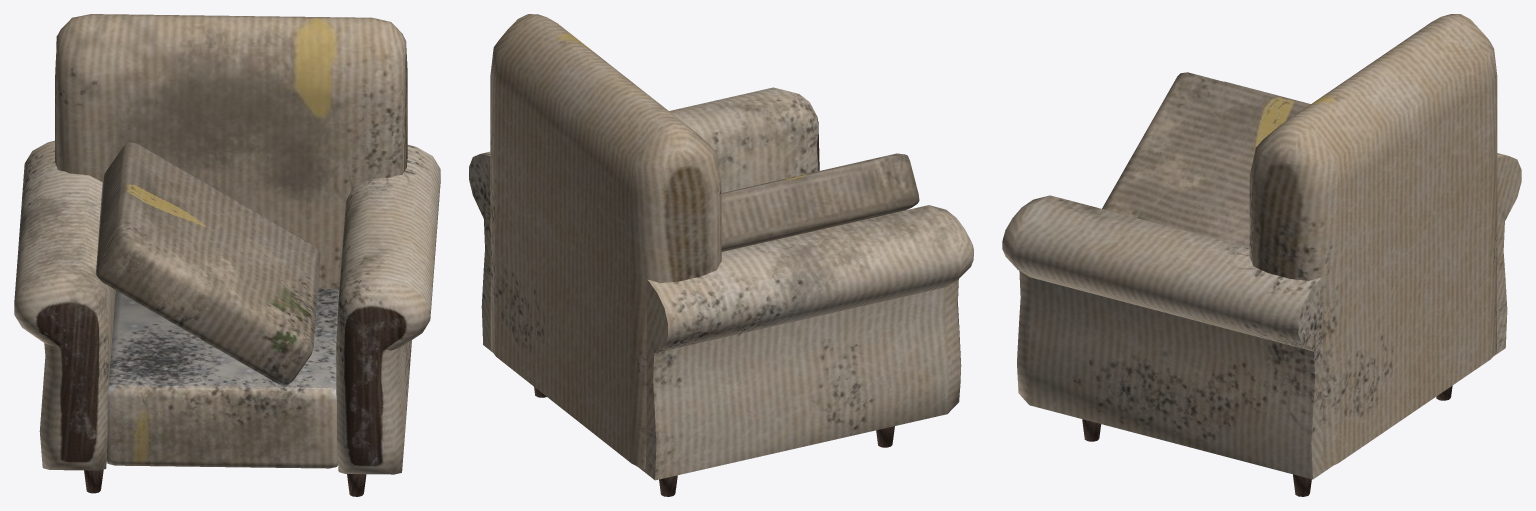
The model's file is poltrona.glb.
3 views of the same model, side by side, from view 1: azimuth 30°, elevation 25°; view 2: azimuth 150°, elevation 25°; view 3: azimuth 270°, elevation 25° (orthographic).
Parts seen in each view (by area): view 1: tocut.002; view 2: tocut.002; view 3: tocut.002.
Boxes of the visible parts, box(x1,y1,x2,y2) form: tocut.002: box(14, 14, 440, 496); tocut.002: box(469, 14, 973, 496); tocut.002: box(1002, 14, 1521, 496).
Bounding box in the file's own units: 1265 × 978 × 1219.
Materials: 1 (1 with a texture image).
